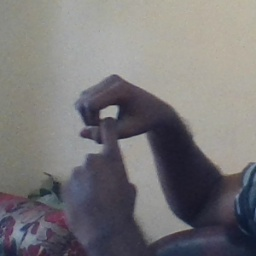Q: (60, 73, 167, 224)
